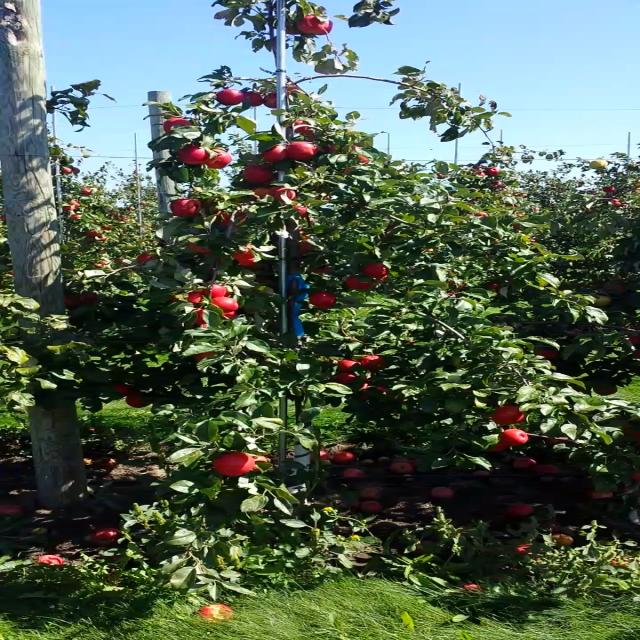apple: (211, 452, 253, 476), (488, 404, 526, 426), (170, 292, 210, 308), (161, 118, 193, 136), (287, 141, 319, 159), (170, 198, 202, 216), (233, 246, 261, 266), (104, 382, 135, 400), (177, 146, 207, 164), (243, 164, 273, 182), (361, 382, 388, 402), (298, 16, 327, 34), (262, 144, 288, 164), (196, 352, 228, 368), (203, 150, 231, 168), (190, 236, 218, 254), (364, 262, 390, 280), (214, 89, 243, 105), (309, 292, 338, 308), (499, 430, 528, 446), (203, 284, 231, 300), (308, 261, 340, 275), (345, 275, 373, 290), (532, 346, 562, 360), (265, 92, 291, 108), (270, 186, 296, 202), (247, 454, 270, 472), (212, 298, 238, 313), (134, 254, 166, 266), (60, 293, 84, 309), (332, 372, 358, 386), (295, 237, 319, 252), (126, 390, 145, 408), (361, 355, 385, 369), (250, 187, 272, 202), (312, 20, 332, 36), (212, 211, 234, 225), (243, 92, 263, 107), (291, 204, 311, 218), (81, 292, 104, 304), (624, 423, 639, 441), (338, 360, 360, 372), (593, 386, 619, 396), (291, 121, 312, 133), (193, 309, 208, 325), (322, 143, 340, 156), (592, 295, 611, 307), (488, 442, 509, 452), (356, 156, 370, 166), (222, 312, 236, 321), (629, 334, 639, 344)
